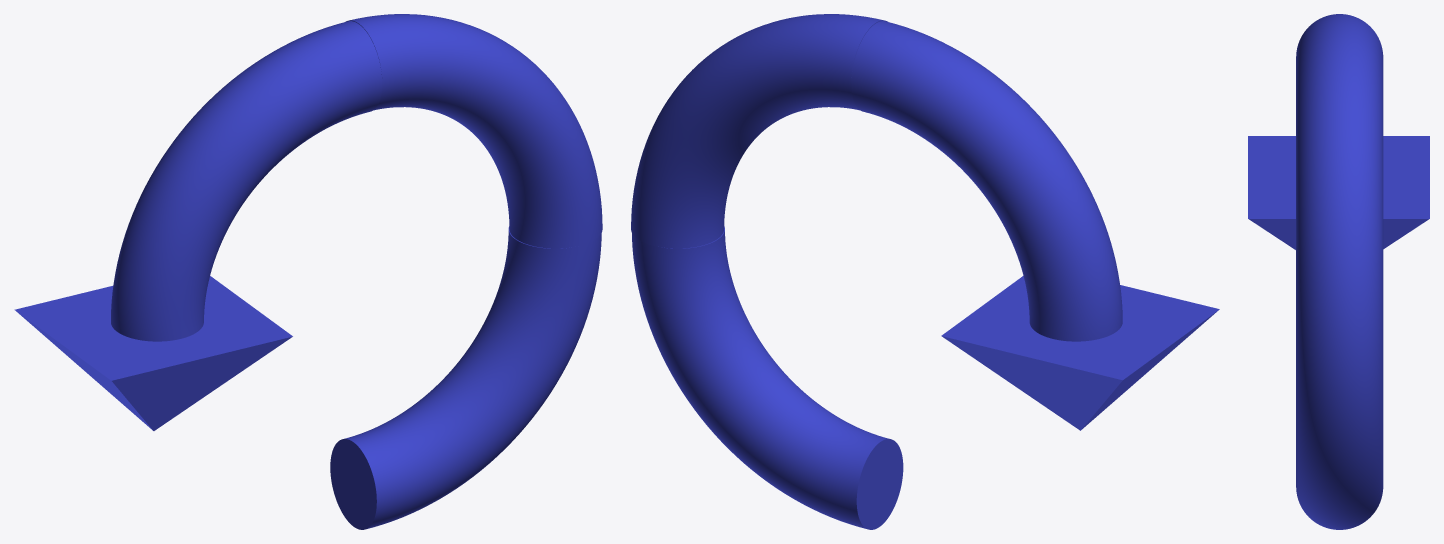
The model's file is Rotation Arrow 1.fbx.
3 renders of one model, left to right at view 1: azimuth 30°, elevation 25°; view 2: azimuth 150°, elevation 25°; view 3: azimuth 270°, elevation 25°, orthographic. The views are drawn at different scales.
Parts seen in each view (by area): view 1: root (×4); view 2: root (×4); view 3: root (×4).
Boxes of the visible parts, x1,y1,x2,y2 form: root (×4): [14, 14, 602, 529]; root (×4): [631, 14, 1219, 529]; root (×4): [1248, 14, 1429, 529].
Bounding box in the file's own units: 0.1198 × 0.1075 × 0.0377.
